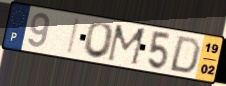5: (146, 30, 172, 71)
9: (26, 12, 52, 50)
D: (167, 35, 203, 75)
I: (65, 17, 82, 57)
M: (105, 23, 149, 68)
O: (81, 21, 117, 61)
